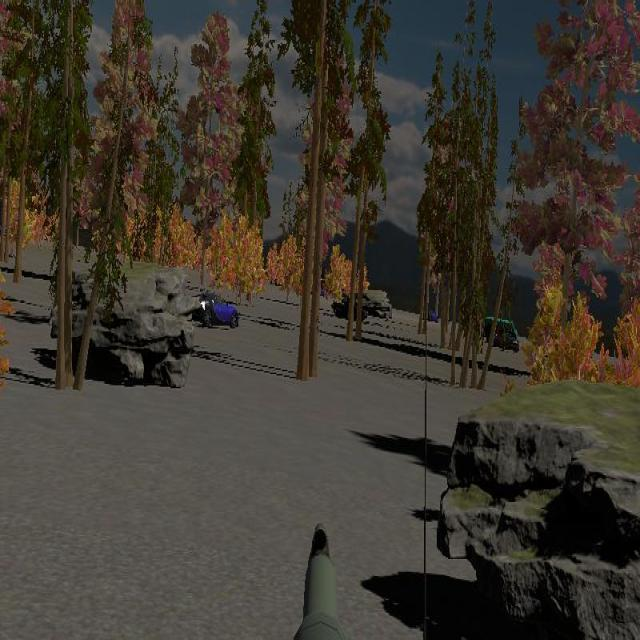car: (191, 288, 241, 330)
